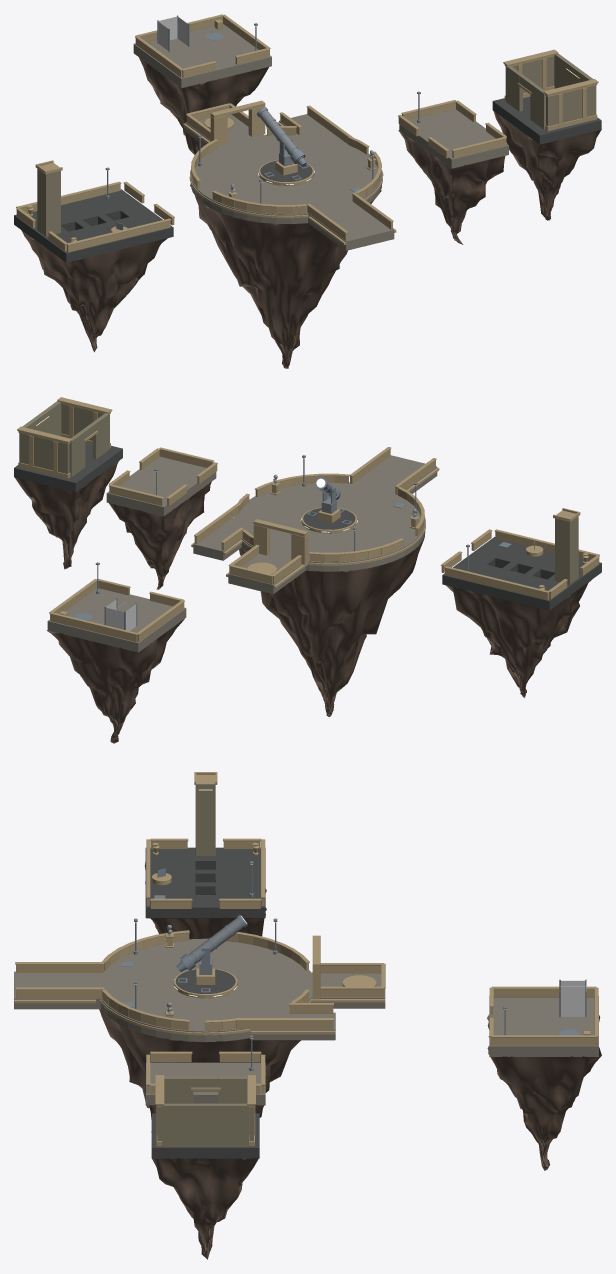
The model's file is f_observatory.glb.
3 renders of one model, top to bottom at view 1: azimuth 30°, elevation 25°; view 2: azimuth 150°, elevation 25°; view 3: azimuth 270°, elevation 25°, orthographic. The views are drawn at different scales.
Parts seen in each view (by area): view 1: island_f_observatory; view 2: island_f_observatory; view 3: island_f_observatory.
Boxes of the visible parts, bbox=[...] form: island_f_observatory: bbox=[14, 14, 601, 368]; island_f_observatory: bbox=[14, 397, 601, 743]; island_f_observatory: bbox=[14, 772, 601, 1259].
Bounding box in the file's own units: 71.75 × 32.96 × 58.9.
